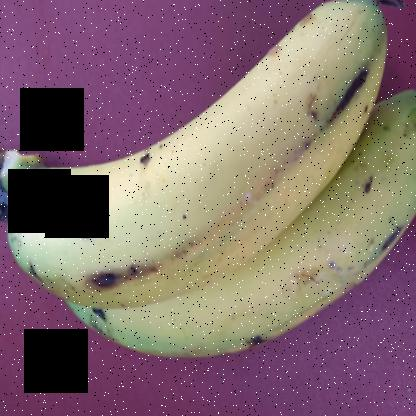ripe: (6, 4, 390, 288)
